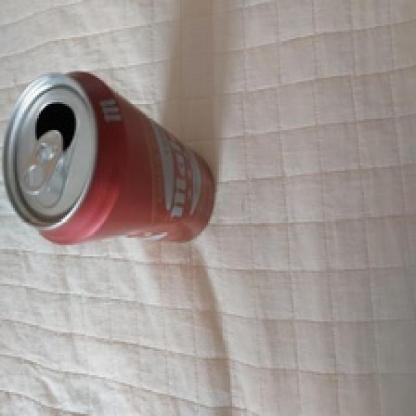Can: (0, 45, 240, 315)
